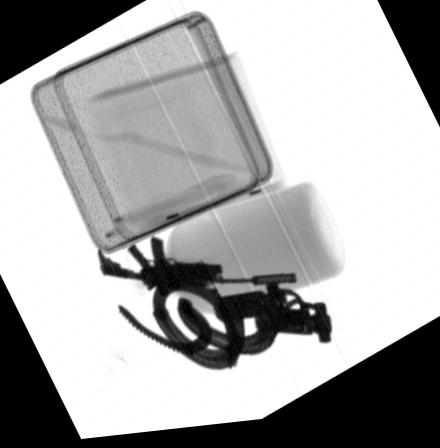Gun: (93, 241, 298, 298)
HandCuffs: (118, 280, 334, 379)
